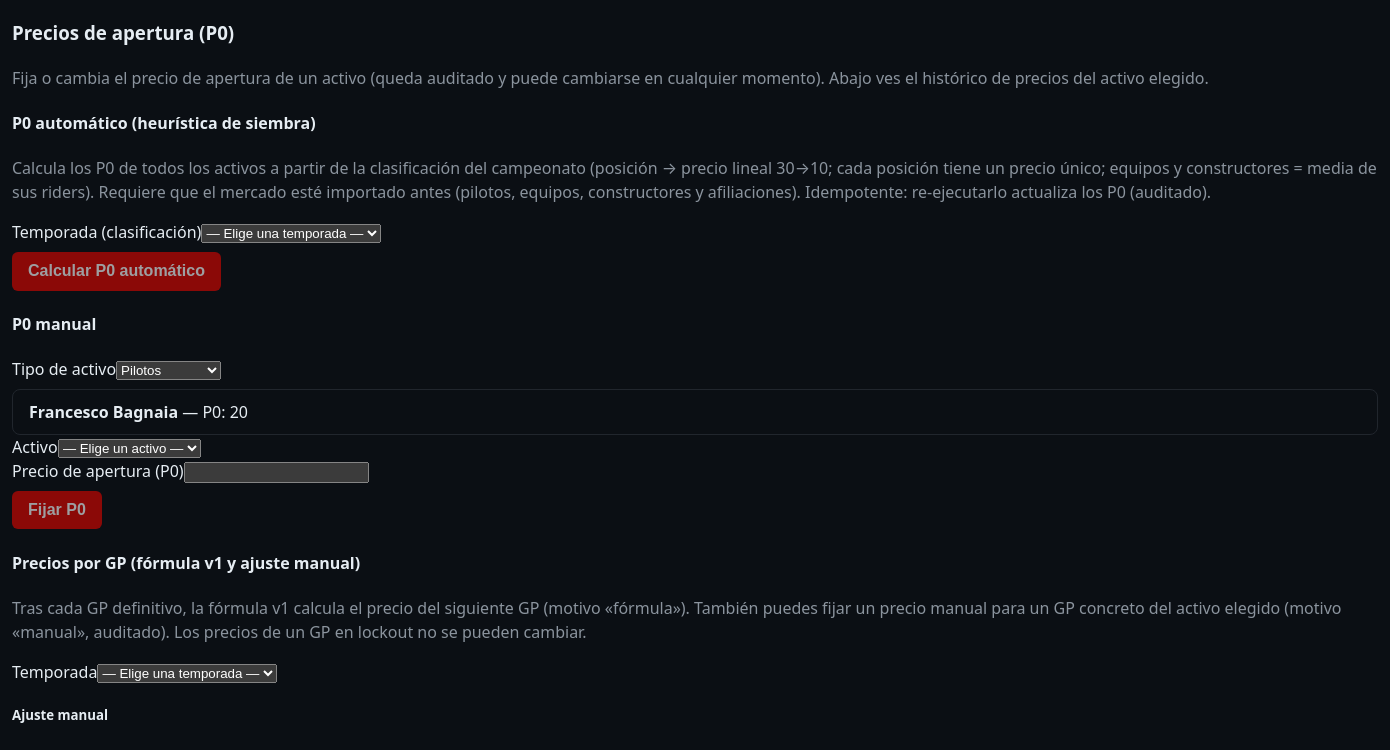
Scenario: PricesPanel › muestra el estado vacío del histórico
The image size is (1390, 750).
Select "Francesco Bagnaia" in the dropdown labelled "Activo" at point(129, 448), box [58,438,201,458]
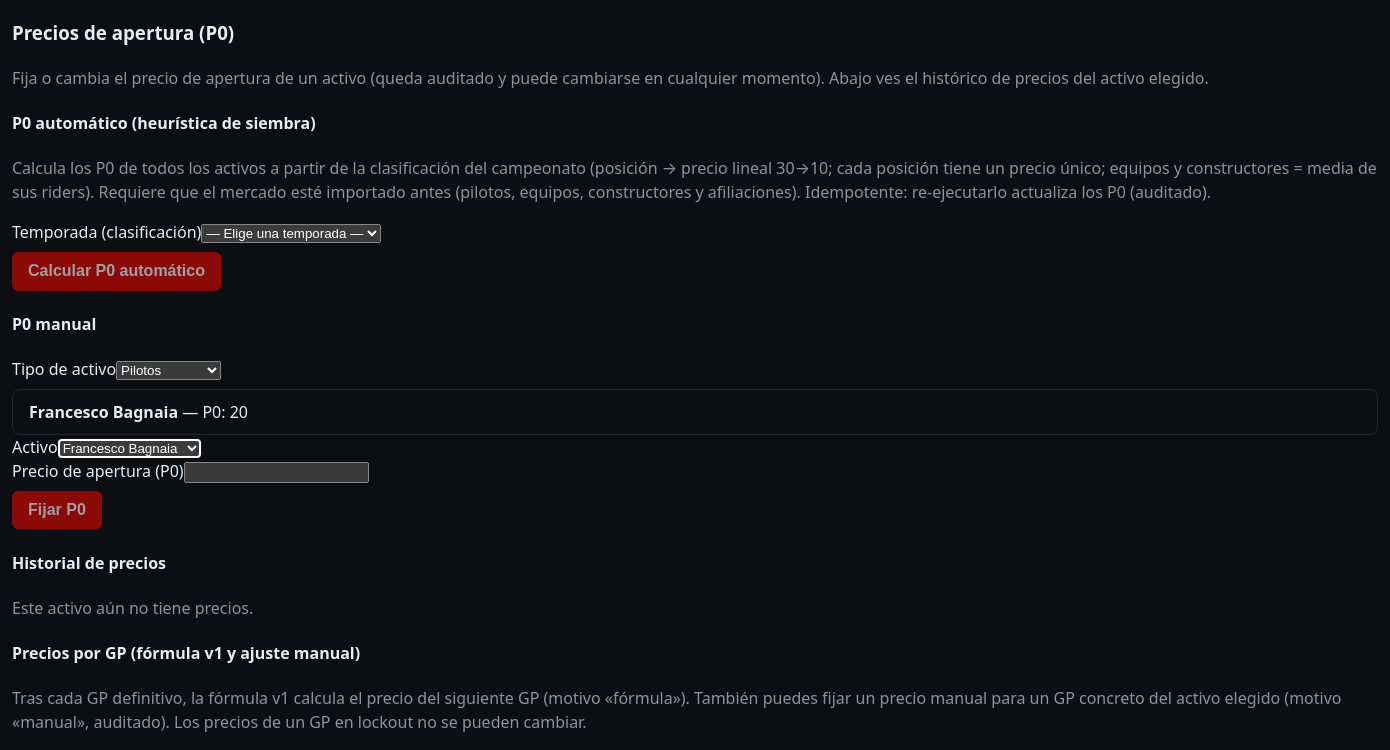
Expected: the text "Este activo aún no tiene precios." is shown, [12,597,253,619]
